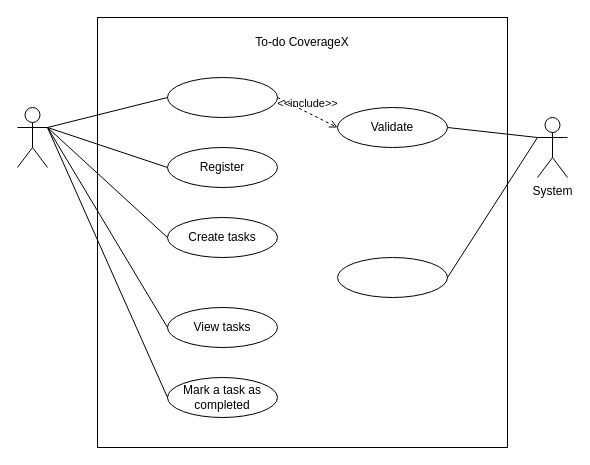
Image size: 590x465. Some labels were removed from this diagram. The shapes that lost their labels are listed below. From the top down, each one's box as (x1, y1, x2, y2) in pixels, then its label:
(166, 76, 278, 118): Login
(16, 106, 48, 168): User
(336, 256, 448, 298): List tasks
